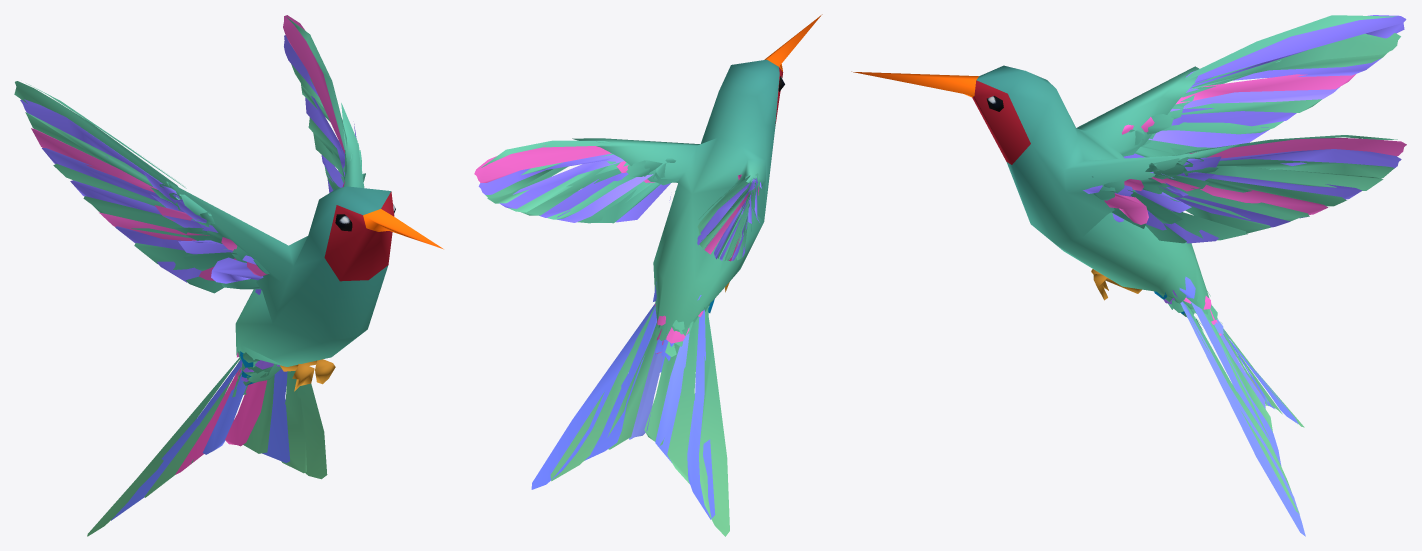
Rendered from HummingBird.glb.
The picture shows the model from 3 angles, left to right: view 1: azimuth 30°, elevation 25°; view 2: azimuth 150°, elevation 25°; view 3: azimuth 270°, elevation 25°; orthographic projection. The views are drawn at different scales.
Visible parts, largest first — view 1: HummingBird; view 2: HummingBird; view 3: HummingBird.
Part boxes in pixels (<box>): HummingBird: <box>14,15,443,536</box>; HummingBird: <box>474,14,822,536</box>; HummingBird: <box>851,15,1406,536</box>.
Size of what is drawn, in the model's own units: 0.1873 by 0.2828 by 0.3467.
2 materials, 2 textured.
